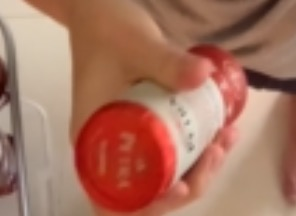petra: (75, 41, 252, 210)
